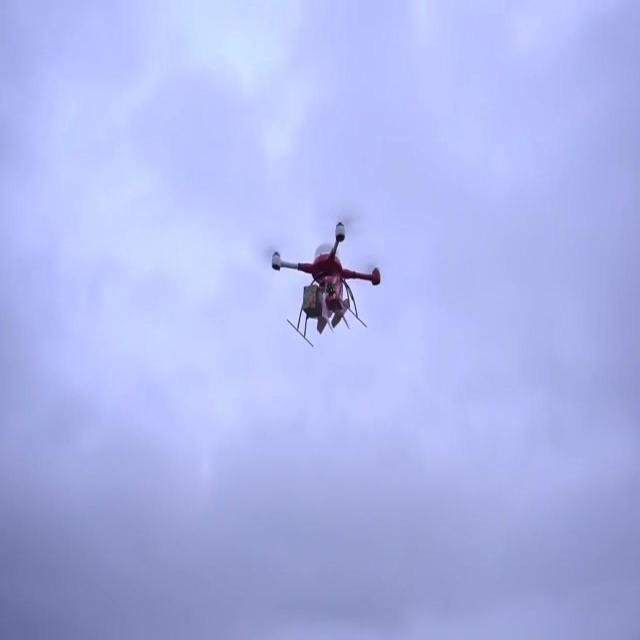drone: (268, 216, 385, 357)
